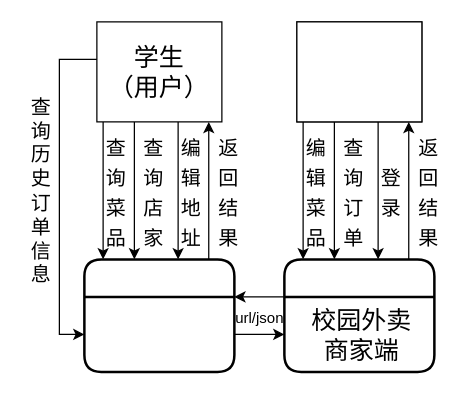
This 468x395 diagram has some shape labels left out. Each missing label, with the centre of its shape:
"校园外卖 用户端" belongs at [158,315].
"食堂 （商家）" belongs at [359,71].
